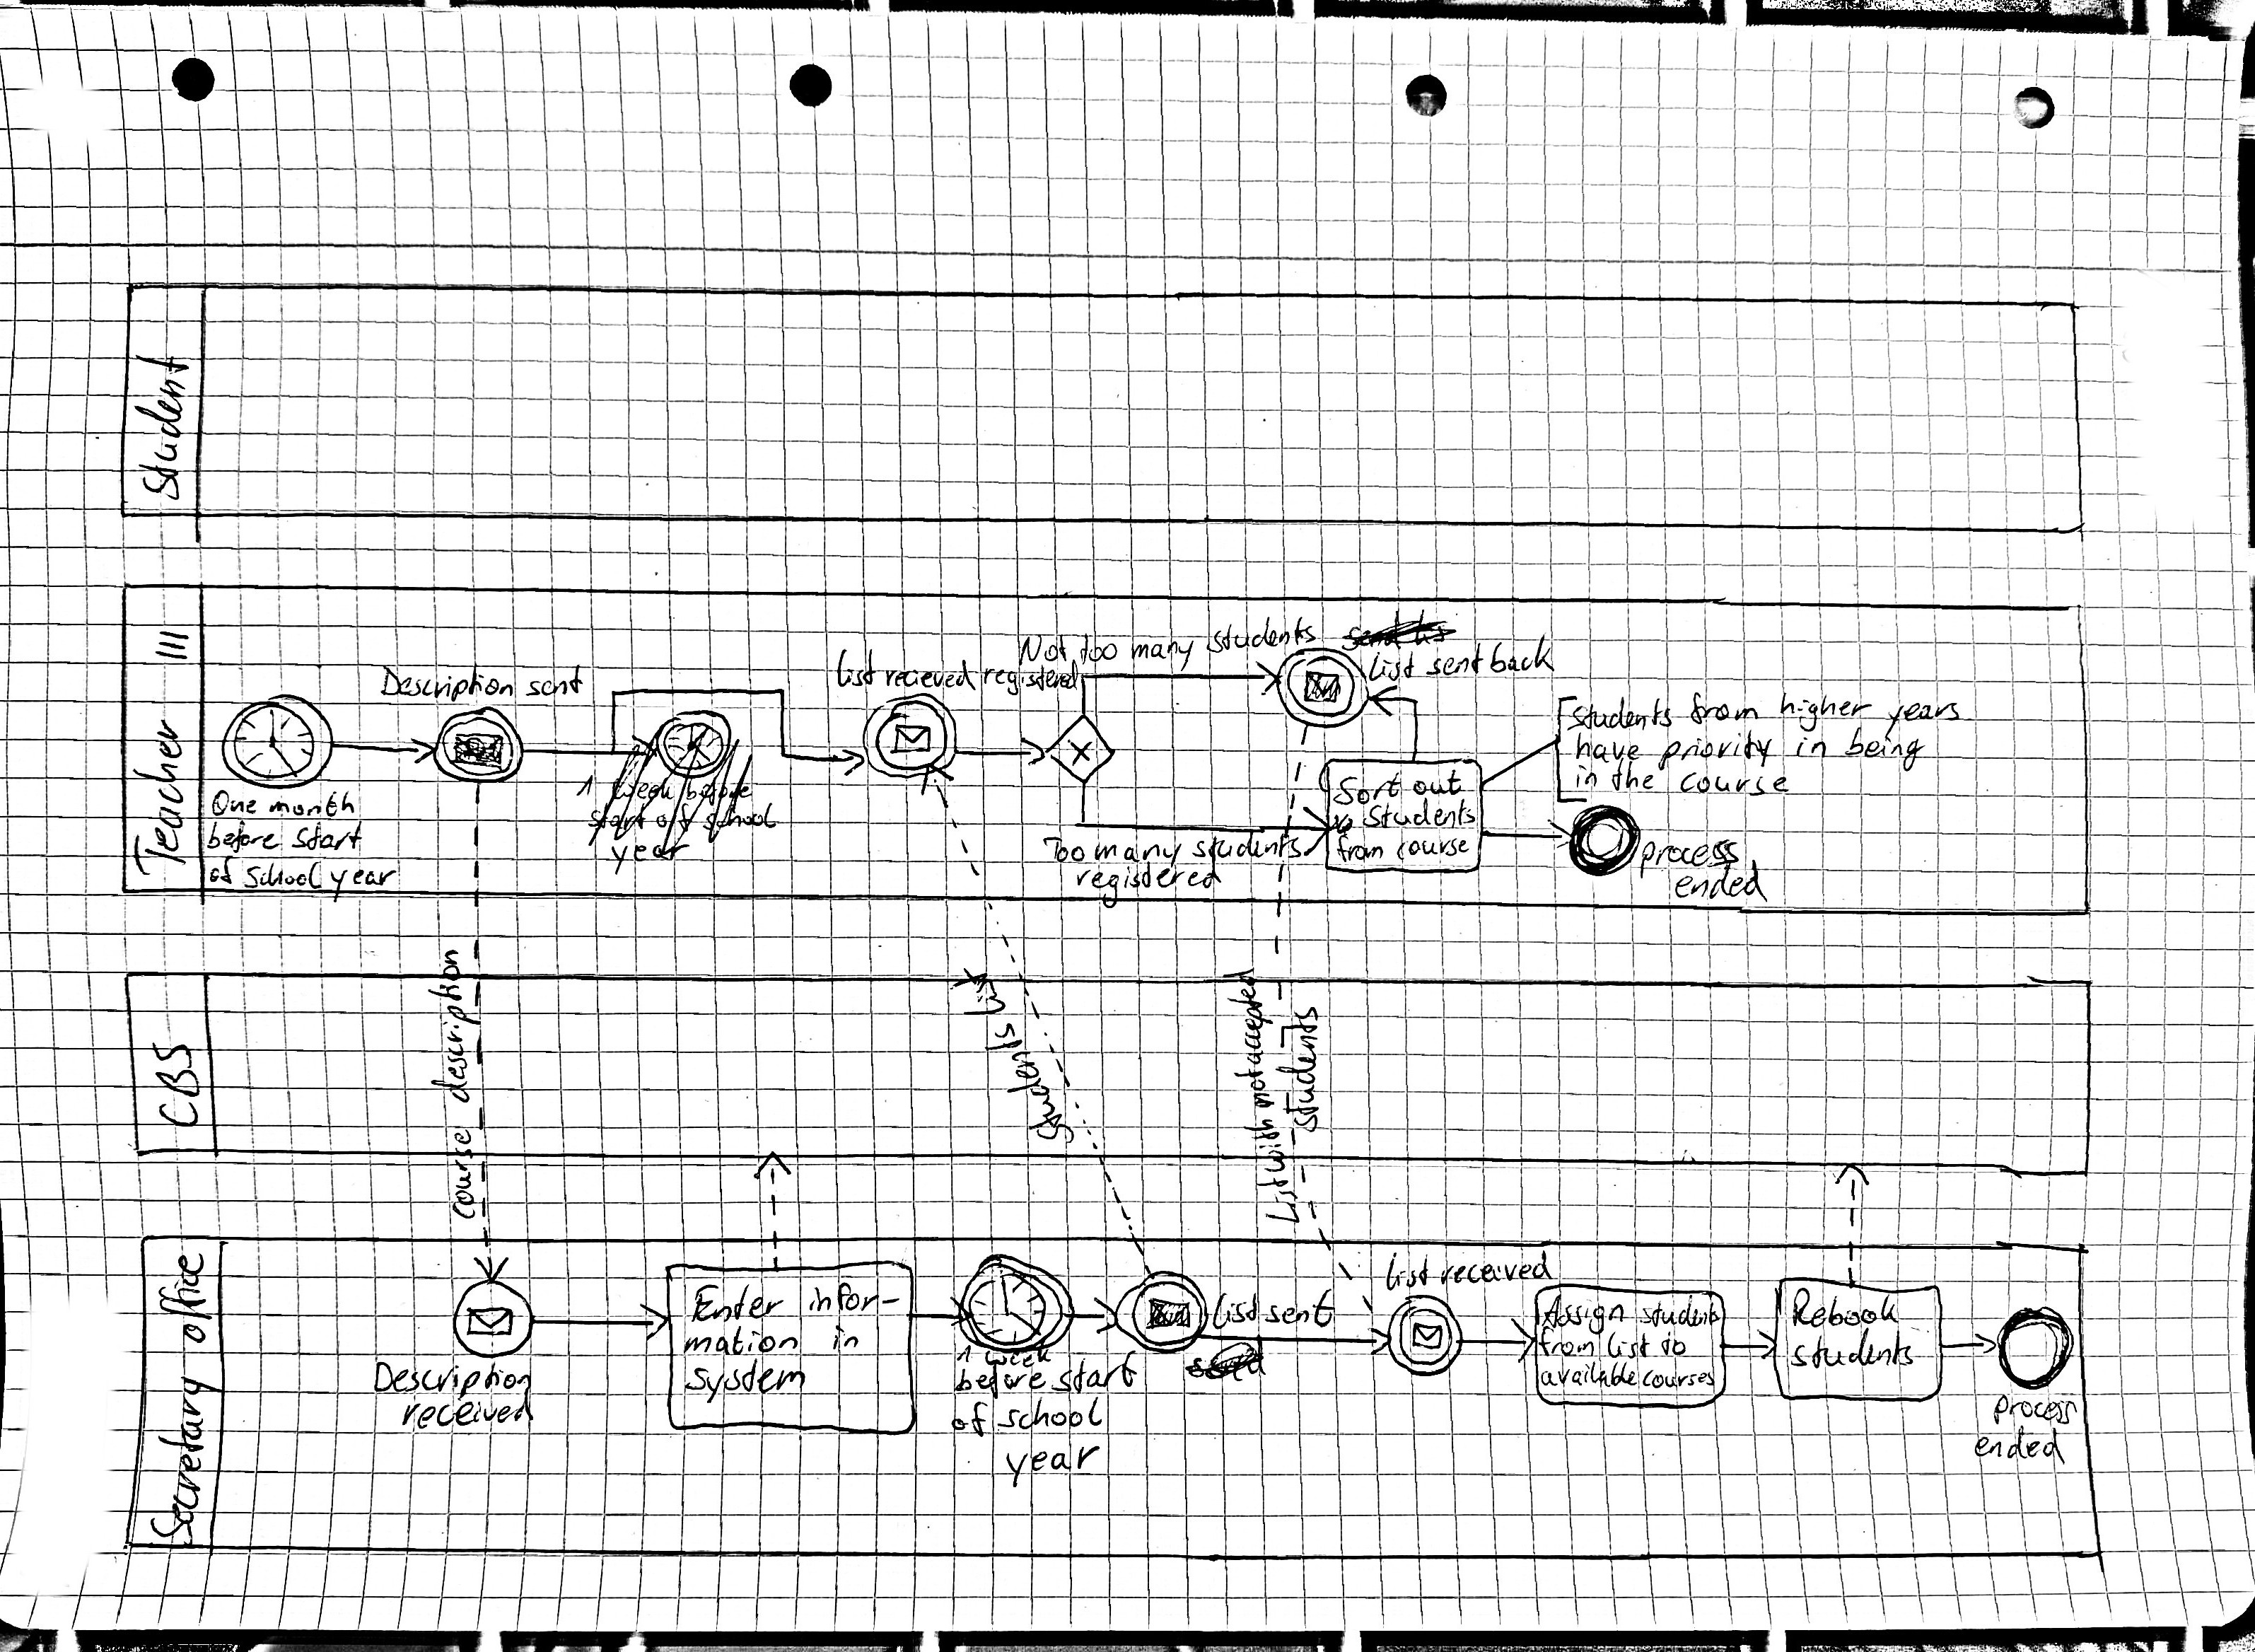1: (955, 1342, 974, 1366)
Assign: (1541, 1294, 1626, 1337)
CBS: (149, 1040, 202, 1129)
Description: (373, 1359, 534, 1400), (380, 665, 516, 703)
Enter: (691, 1282, 786, 1323)
III: (155, 627, 193, 662)
List: (1252, 1181, 1295, 1235), (1207, 1294, 1259, 1333), (1368, 650, 1418, 682)
Not: (1016, 633, 1069, 668)
One: (209, 789, 260, 819)
Rebook: (1789, 1287, 1901, 1328)
School: (243, 861, 325, 892)
Secretary: (149, 1375, 223, 1547)
Sort: (1330, 779, 1402, 811)
Start: (290, 822, 366, 852)
Student: (134, 351, 190, 500)
Students: (977, 1035, 1027, 1173), (1361, 796, 1477, 829)
Teacher: (132, 719, 185, 878)
Too: (1042, 834, 1088, 865)
accepted: (1220, 967, 1276, 1066)
available: (1539, 1360, 1639, 1388)
back: (1488, 633, 1556, 673)
before: (955, 1363, 1049, 1400), (206, 819, 281, 852)
being: (1846, 726, 1928, 768)
course: (1678, 772, 1791, 797), (448, 1128, 476, 1221), (1396, 839, 1472, 863)
courses: (1642, 1370, 1718, 1390)
description: (426, 948, 479, 1105)
ended: (1674, 859, 1767, 901), (1974, 1424, 2065, 1460)
from: (1689, 690, 1761, 725), (1537, 1325, 1597, 1356), (1334, 833, 1386, 863)
have: (1574, 732, 1643, 762)
higher: (1778, 691, 1872, 734)
in: (830, 1322, 862, 1352), (1795, 735, 1831, 759), (1575, 763, 1601, 791)
infor-: (808, 1269, 902, 1313)
list: (943, 975, 990, 1035), (1382, 1253, 1431, 1293), (833, 648, 878, 689), (1604, 1330, 1653, 1360)
many: (1092, 841, 1183, 869), (1129, 639, 1196, 672)
mation: (681, 1323, 800, 1357)
month: (268, 791, 359, 818)
not: (1231, 1071, 1266, 1117)
of: (951, 1400, 989, 1438), (209, 854, 235, 885)
office: (157, 1250, 212, 1345)
out: (1411, 767, 1464, 796)
priority: (1657, 728, 1774, 773)
process: (1638, 841, 1740, 877), (1992, 1395, 2080, 1426)
received: (399, 1392, 535, 1430), (1438, 1255, 1554, 1286)
recieved: (883, 658, 978, 690)
registered: (1073, 858, 1223, 909), (981, 659, 1083, 697)
school: (997, 1395, 1102, 1429)
sent: (1266, 1284, 1338, 1325), (1425, 641, 1485, 677), (524, 663, 585, 699)
start: (1050, 1351, 1140, 1395)
students: (1273, 1005, 1320, 1134), (1789, 1326, 1916, 1368), (1565, 695, 1675, 732), (1191, 832, 1303, 867), (1204, 619, 1317, 655), (1638, 1293, 1721, 1329)
system: (683, 1358, 808, 1404)
the: (1609, 760, 1657, 792)
to: (1658, 1328, 1689, 1357)
too: (1078, 631, 1120, 666)
week: (984, 1344, 1053, 1368)
with: (1241, 1124, 1278, 1182)
year: (1005, 1444, 1102, 1488), (328, 866, 398, 904)
years: (1883, 701, 1963, 738)
